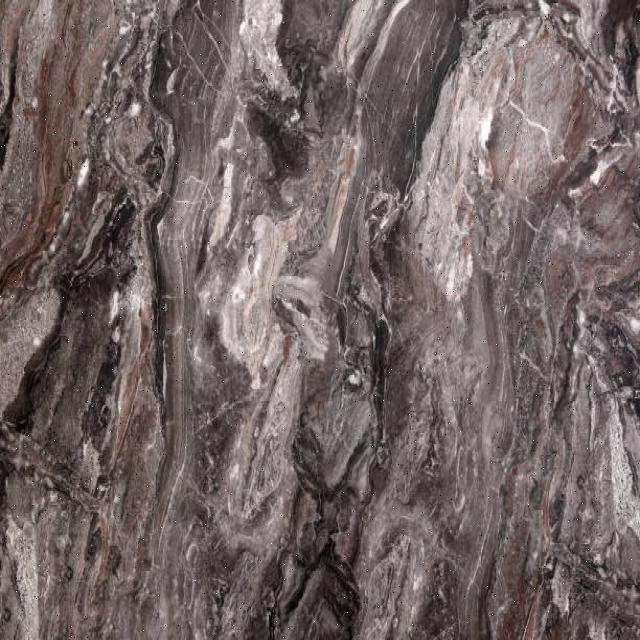Metamorphic: (3, 3, 640, 637)
